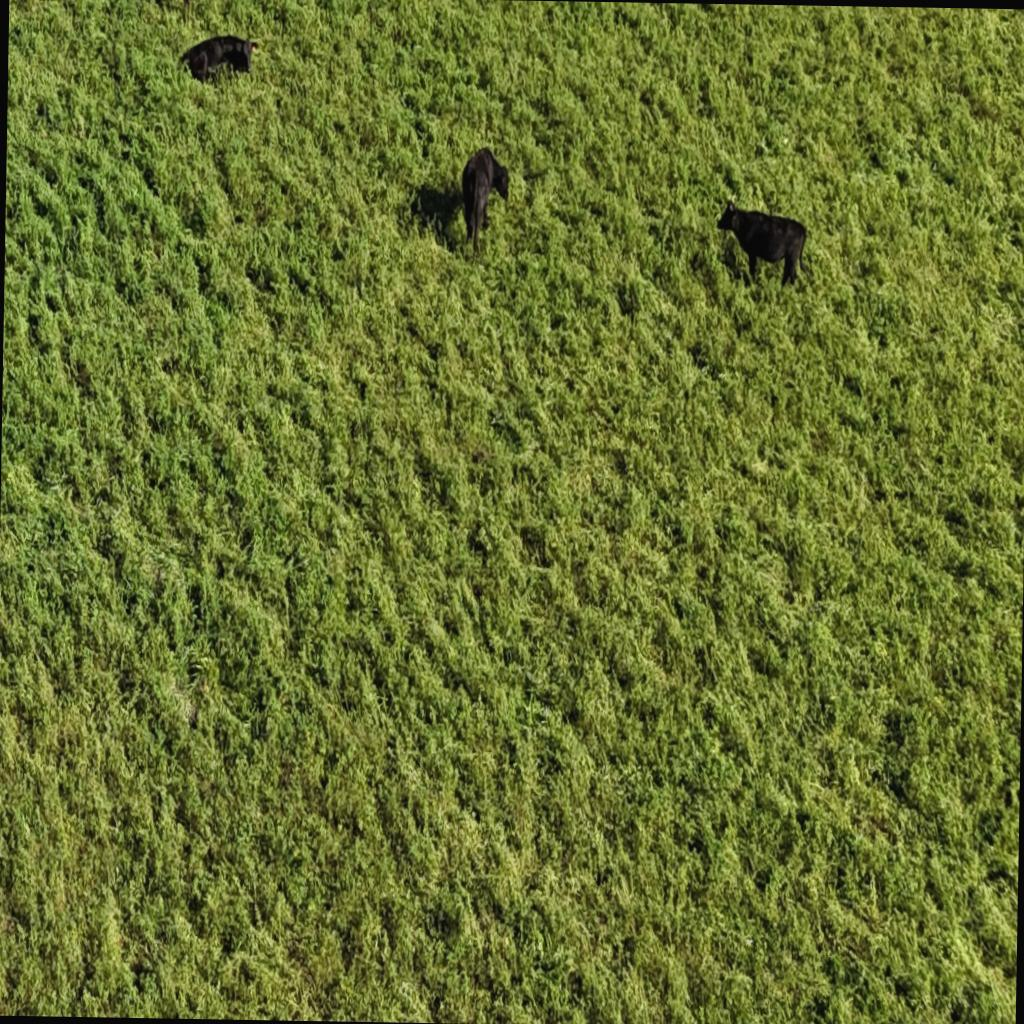cow: (712, 194, 816, 294), (435, 145, 514, 254), (180, 30, 261, 86)
